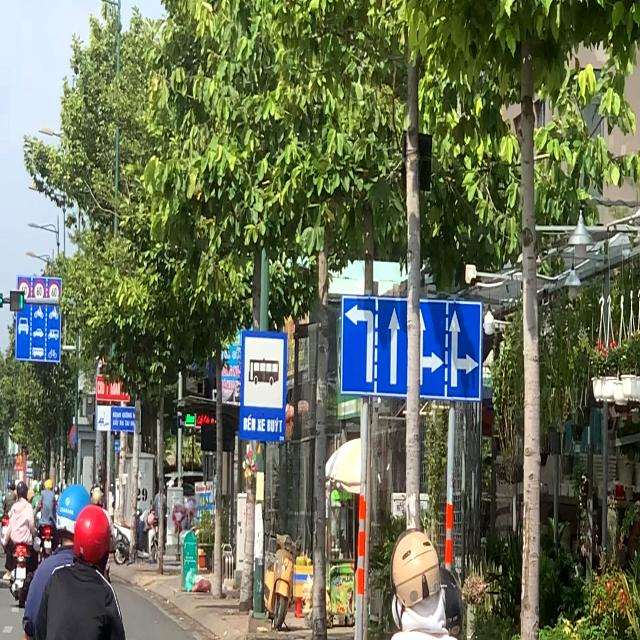P.127: (18, 279, 30, 303), (33, 280, 45, 303), (48, 281, 60, 304)
R.434: (238, 327, 288, 447)
